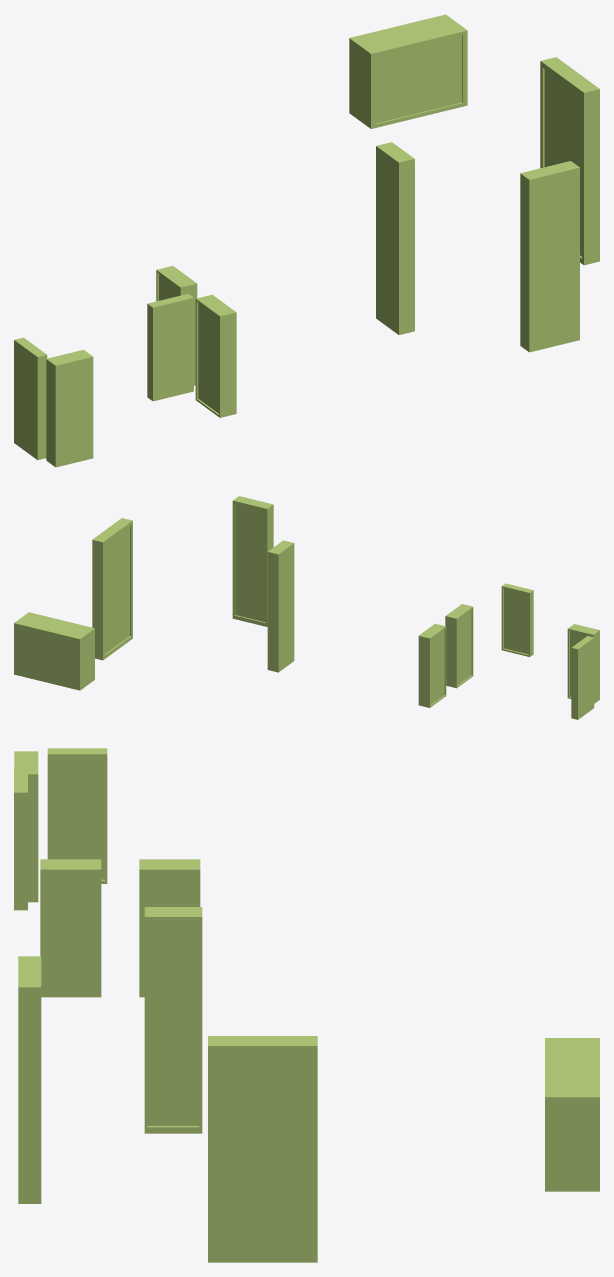
The model's file is Cabinets.glb.
The picture shows the model from 3 angles, top to bottom: view 1: azimuth 30°, elevation 25°; view 2: azimuth 150°, elevation 25°; view 3: azimuth 270°, elevation 25°; orthographic projection. The views are drawn at different scales.
Visible parts, largest first — view 1: Cube.008; view 2: Cube.008; view 3: Cube.008.
Boxes of the visible parts, box(x1,y1,x2,y2) form: Cube.008: box(14, 14, 599, 467); Cube.008: box(14, 496, 599, 719); Cube.008: box(14, 748, 599, 1262).
Size of the model in its own units: 75.81 by 19.9 by 48.77.
